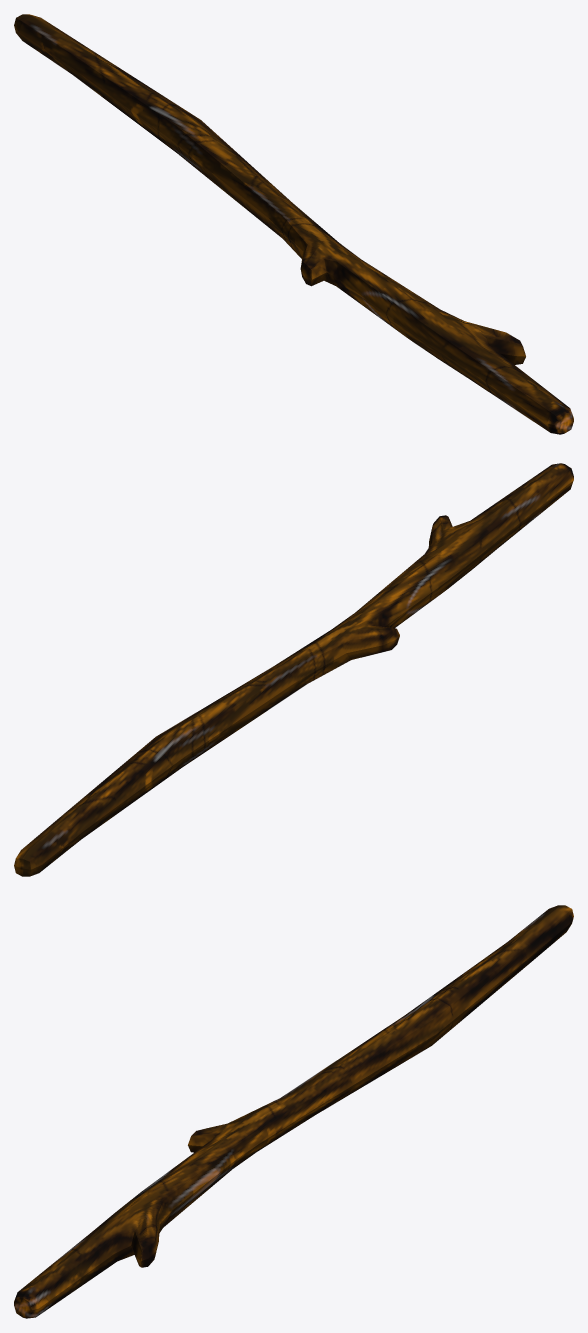
The model's file is UnityStockGroß.fbx.
3 renders of one model, top to bottom at view 1: azimuth 30°, elevation 25°; view 2: azimuth 150°, elevation 25°; view 3: azimuth 330°, elevation 25°, orthographic.
Parts seen in each view (by area): view 1: Cube.024; view 2: Cube.024; view 3: Cube.024.
Part boxes in pixels (x1=…): Cube.024: x1=14, y1=14, x2=573, y2=434; Cube.024: x1=14, y1=463, x2=573, y2=876; Cube.024: x1=14, y1=905, x2=573, y2=1318.
Size of the model in its own units: 337 by 133 by 3648.
